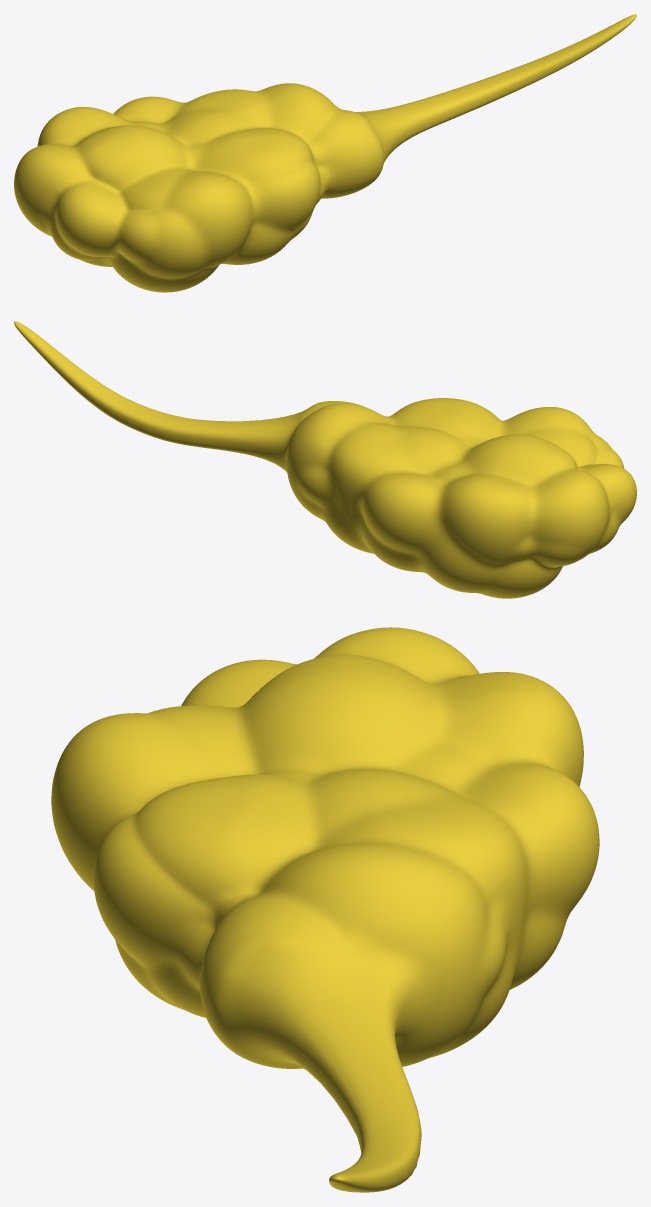
The model's file is goku-cloud.glb.
3 views of the same model, one above another, from view 1: azimuth 30°, elevation 25°; view 2: azimuth 150°, elevation 25°; view 3: azimuth 270°, elevation 25° (orthographic). The views are drawn at different scales.
Visible parts, largest first — view 1: cloud; view 2: cloud; view 3: cloud.
Boxes of the visible parts, <box> form: cloud: <box>14,14,636,292</box>; cloud: <box>14,321,636,598</box>; cloud: <box>51,627,599,1192</box>.
Bounding box in the file's own units: 6.4 × 1.4 × 2.53.
